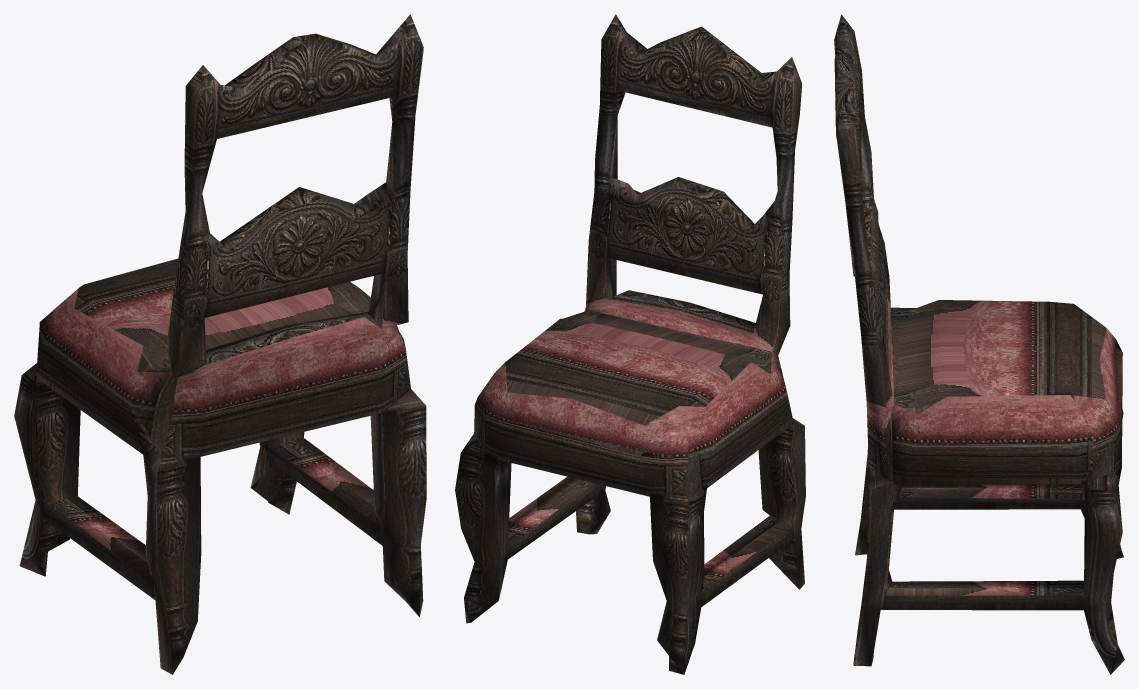
File: chair_med.glb
The picture shows the model from 3 angles, left to right: view 1: azimuth 30°, elevation 25°; view 2: azimuth 150°, elevation 25°; view 3: azimuth 270°, elevation 25°; orthographic projection. The views are drawn at different scales.
Visible parts, largest first — view 1: chair_med; view 2: chair_med; view 3: chair_med.
Boxes of the visible parts, <box> form: chair_med: <box>14,14,426,674</box>; chair_med: <box>455,14,805,674</box>; chair_med: <box>834,14,1124,674</box>.
Bounding box in the file's own units: 0.4873 × 1.05 × 0.4898.
1 material, 1 textured.
